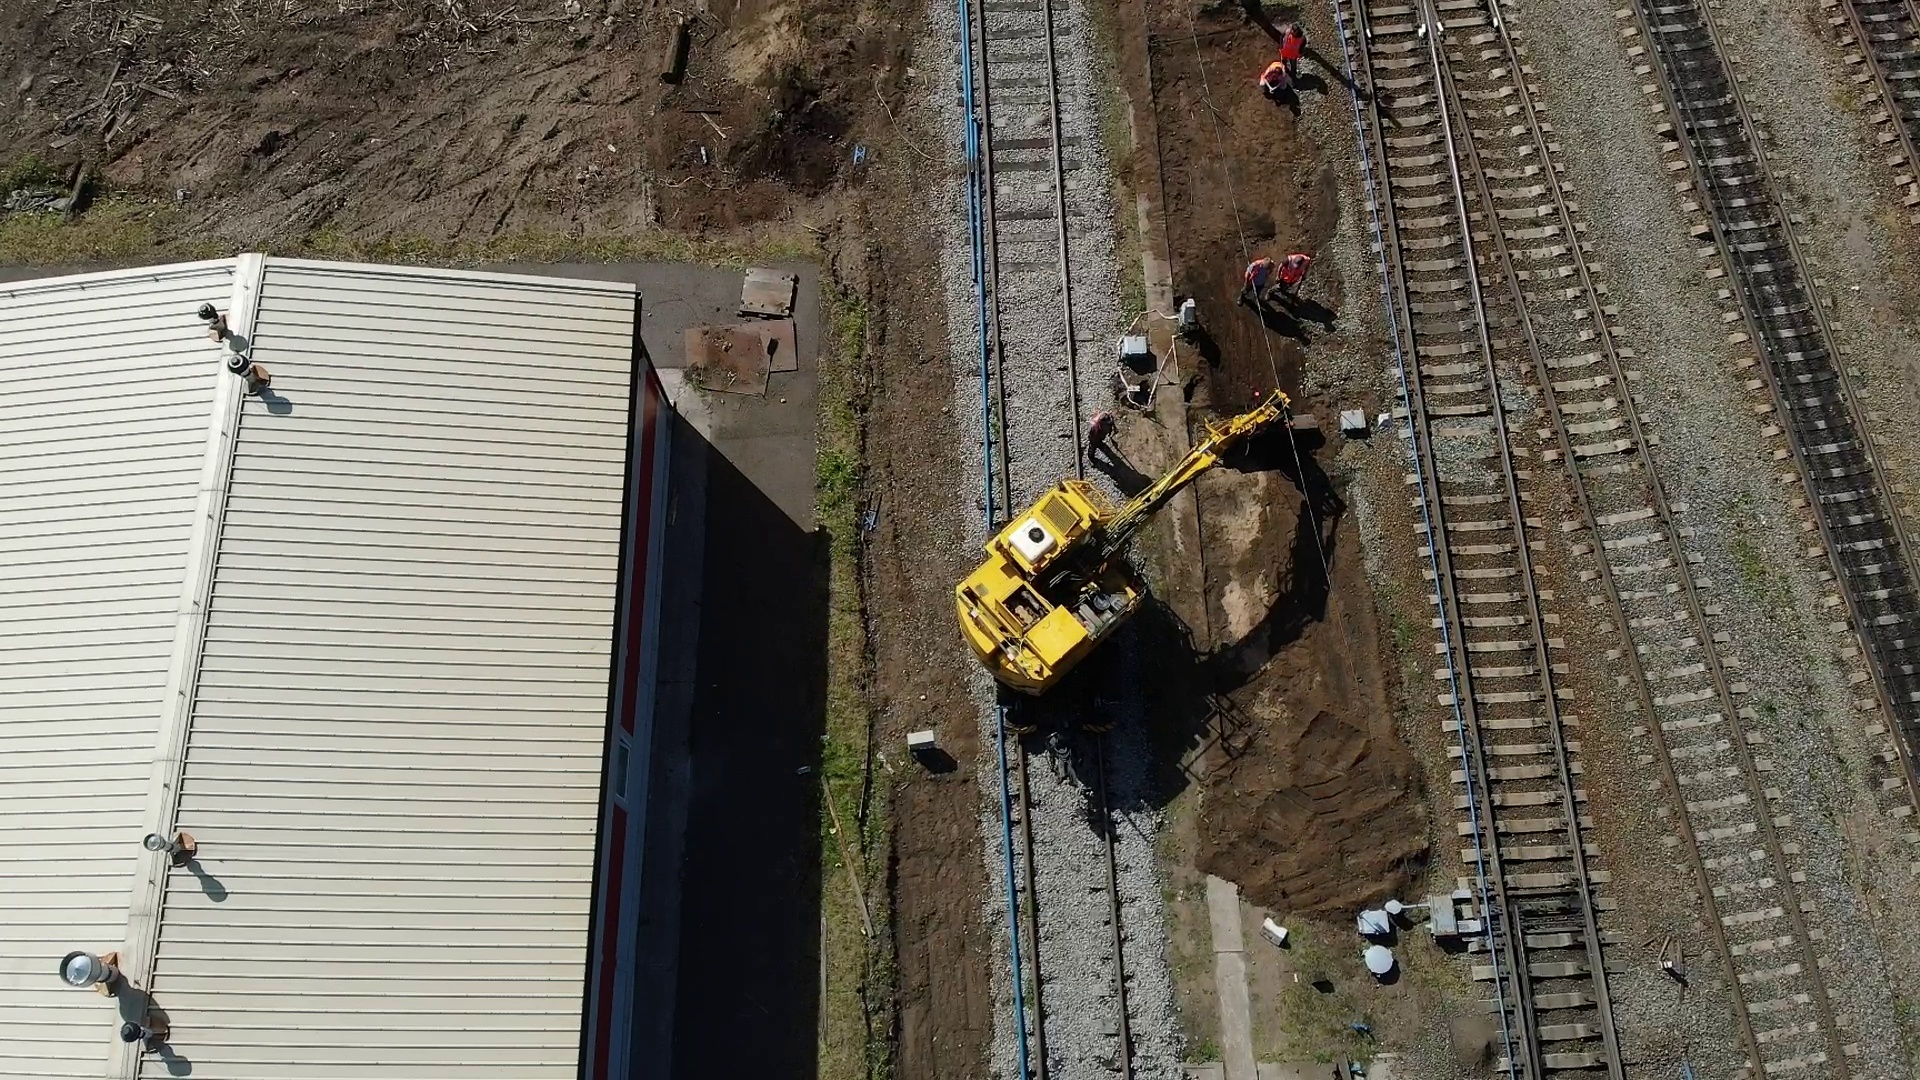kjtv: (952, 413, 1228, 730)
